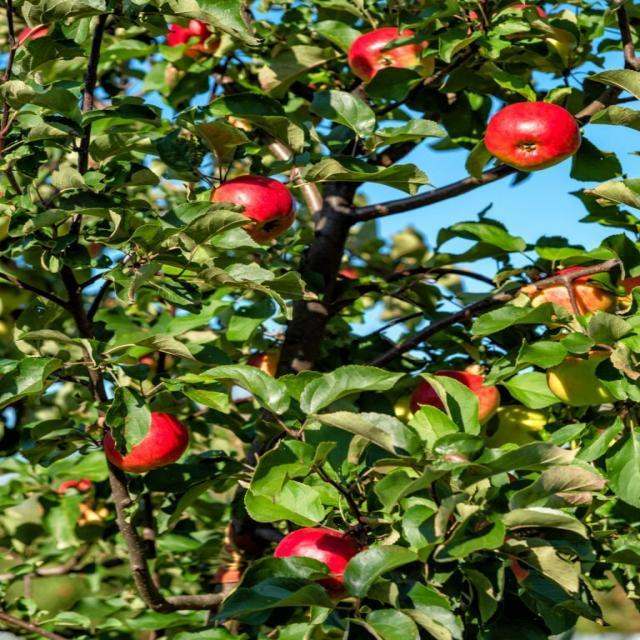Red Apple: (493, 105, 579, 166), (103, 408, 191, 466), (211, 177, 296, 237), (352, 32, 433, 85), (276, 526, 354, 576), (429, 371, 497, 419), (539, 268, 608, 314), (53, 478, 99, 518), (166, 19, 210, 52), (248, 341, 281, 379), (509, 2, 546, 34), (21, 25, 50, 54), (212, 558, 243, 585), (620, 271, 640, 311), (139, 348, 164, 374), (459, 8, 483, 35), (512, 557, 536, 583), (341, 268, 367, 289)
